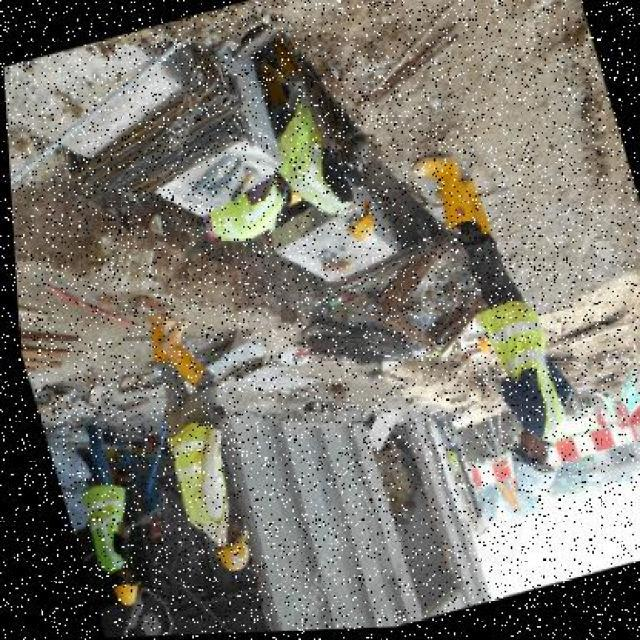helmet: (486, 445, 555, 510), (194, 533, 252, 579), (100, 571, 134, 613)
vest: (458, 286, 562, 452), (260, 103, 348, 235), (154, 414, 232, 532), (58, 472, 138, 580)
